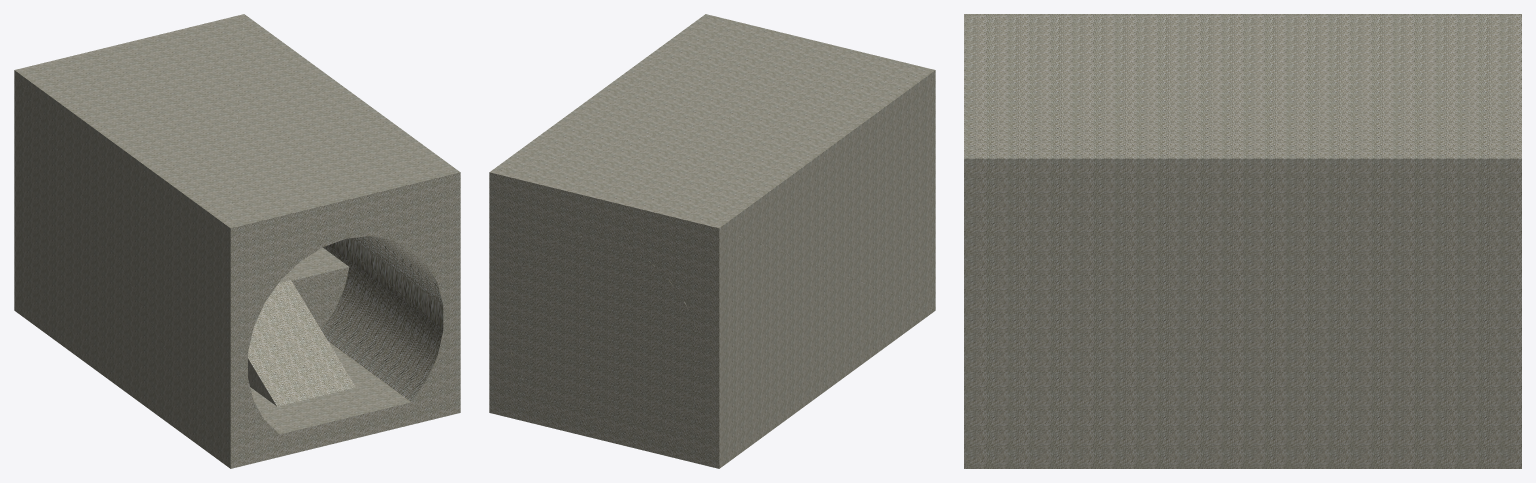
Rendered from ExcavThreeStepPreserveCore6.glb.
The picture shows the model from 3 angles, left to right: view 1: azimuth 30°, elevation 25°; view 2: azimuth 150°, elevation 25°; view 3: azimuth 270°, elevation 25°; orthographic projection. The views are drawn at different scales.
Bounding box in the file's own units: 16 × 16 × 26.08.
Materials: 1 (1 with a texture image).
